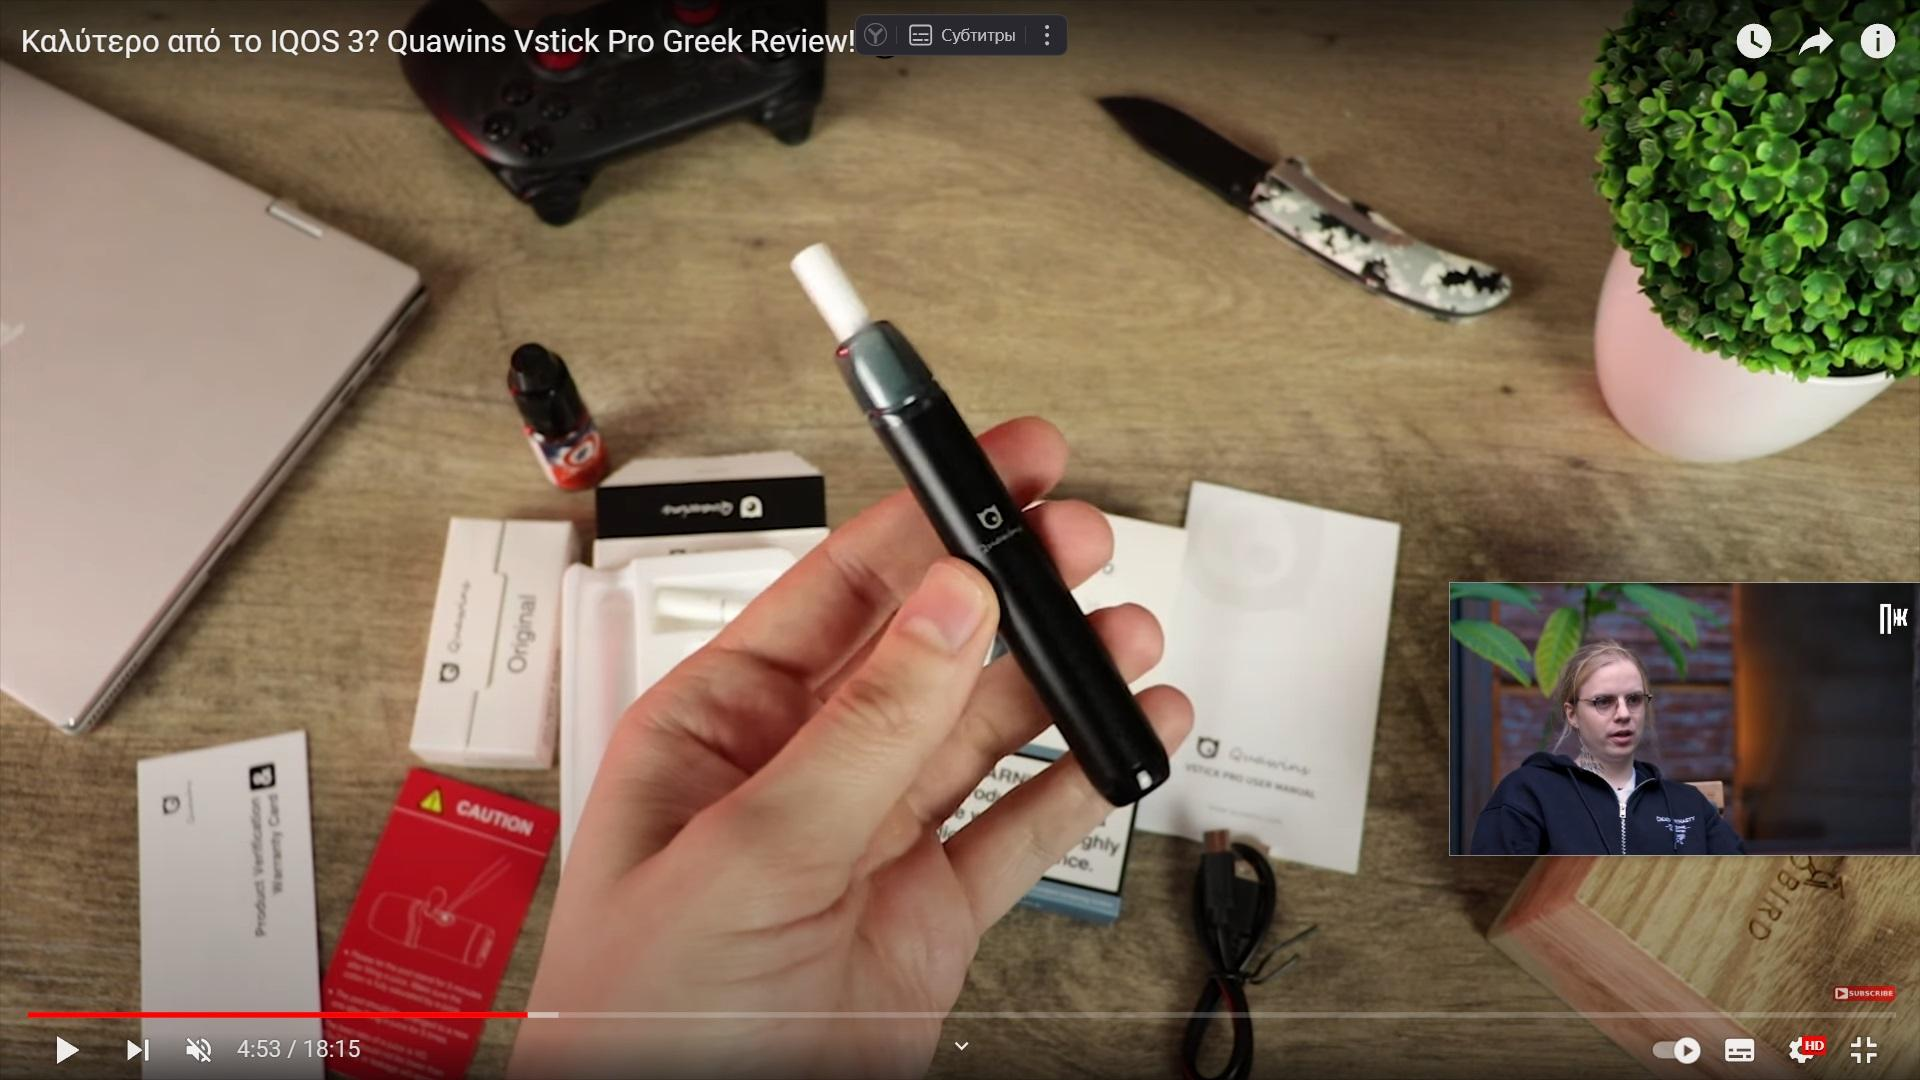iqos: (793, 244, 1168, 803)
